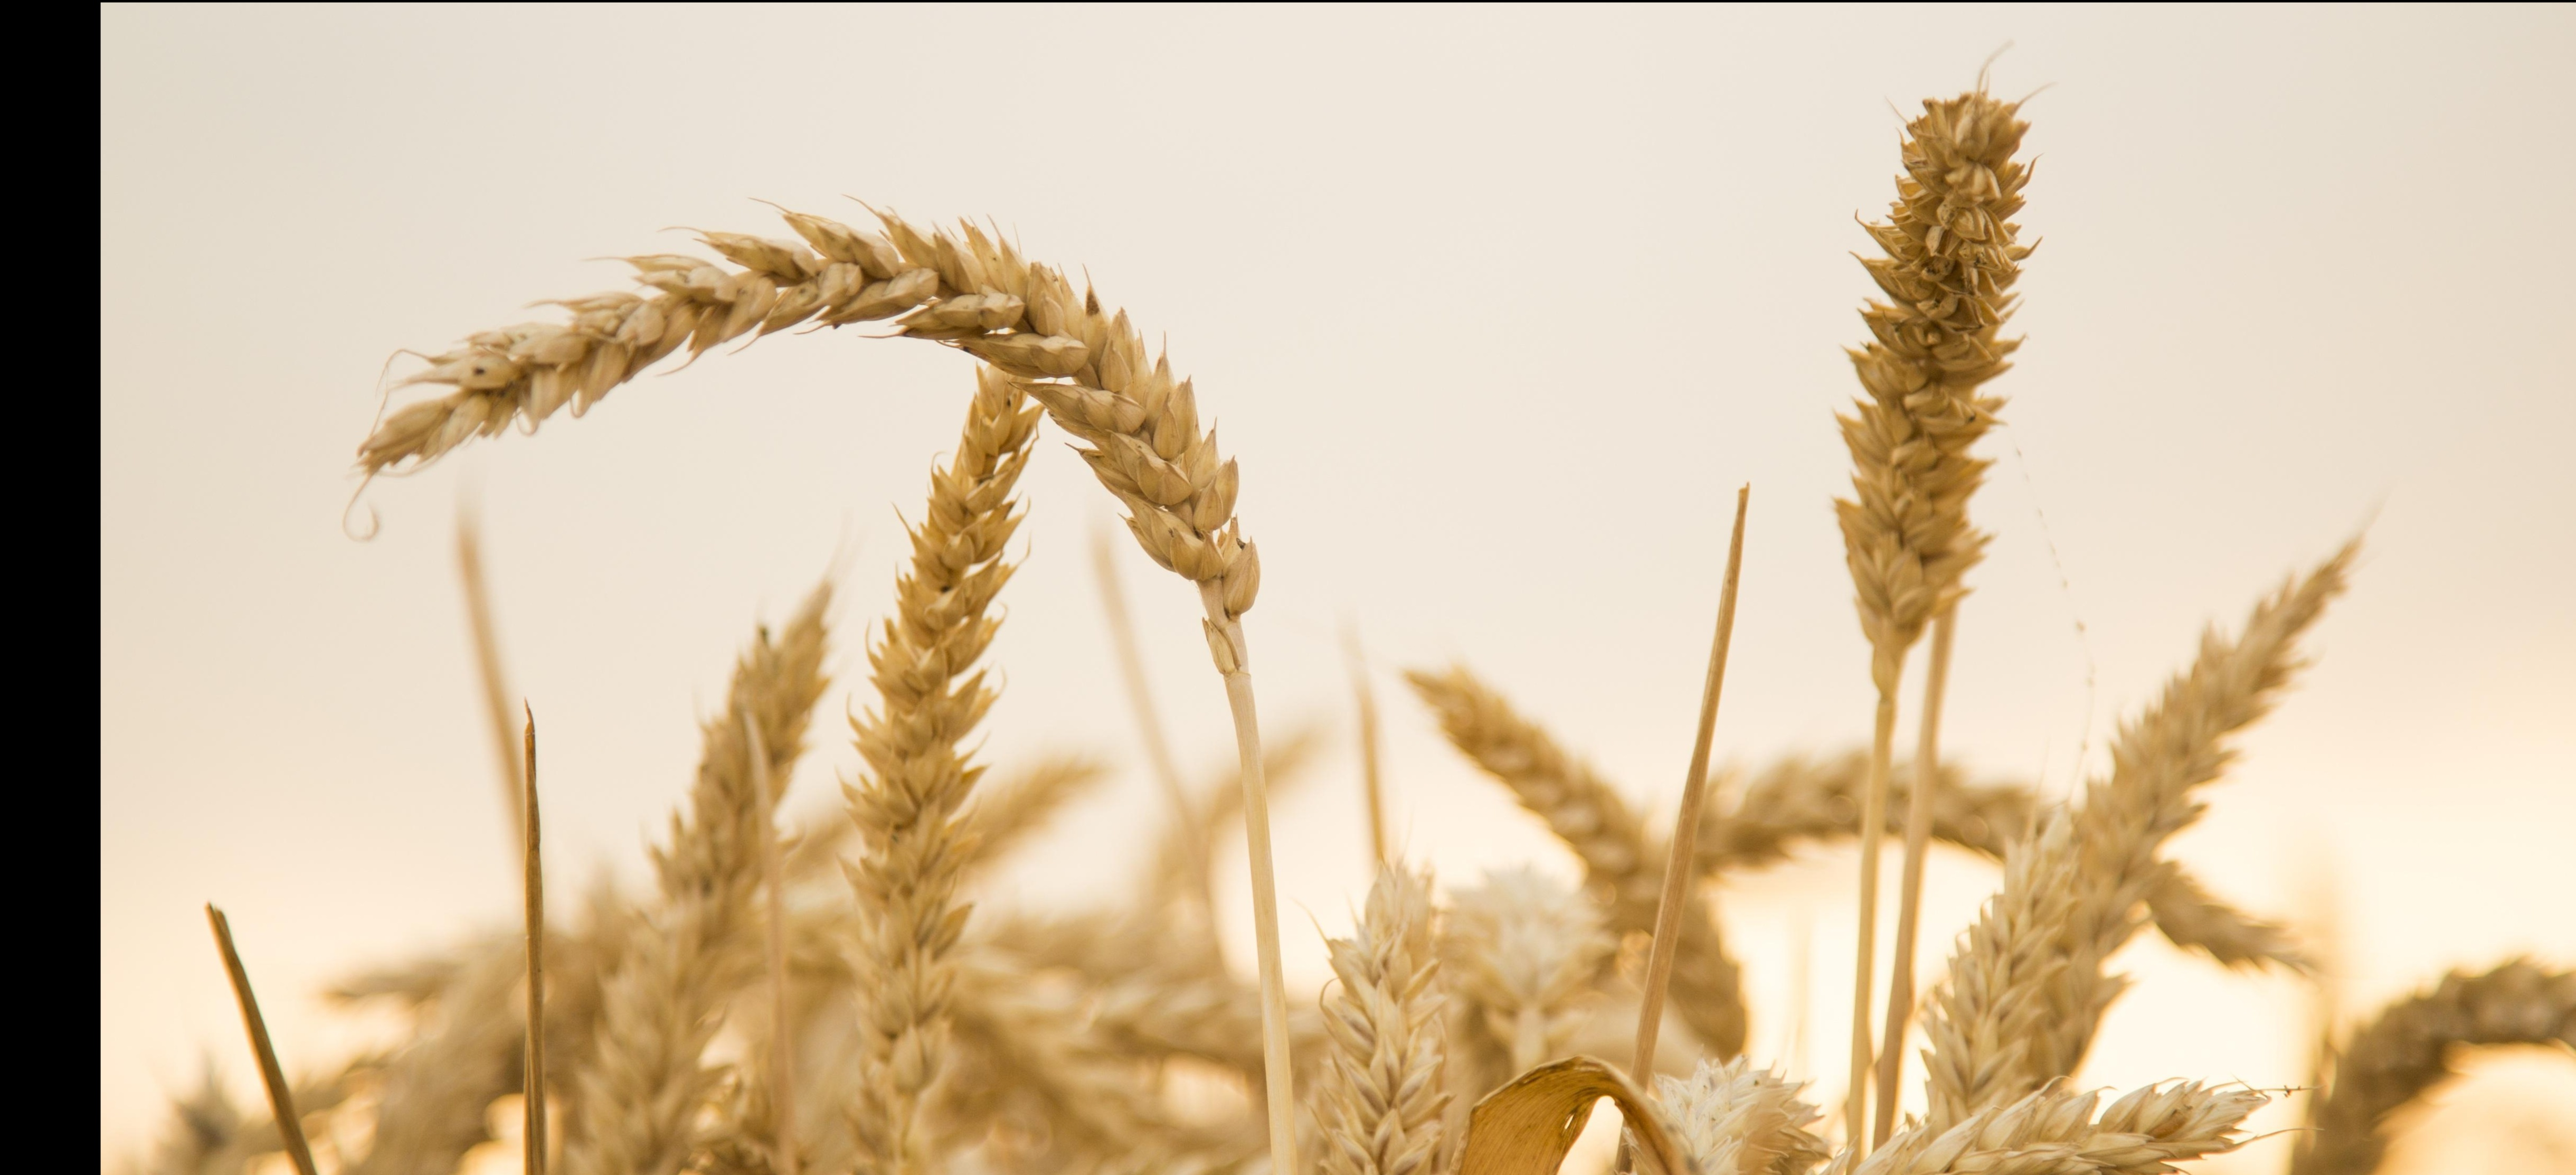wheat: (319, 191, 1258, 644), (836, 317, 1043, 1157), (1848, 21, 2032, 733)
